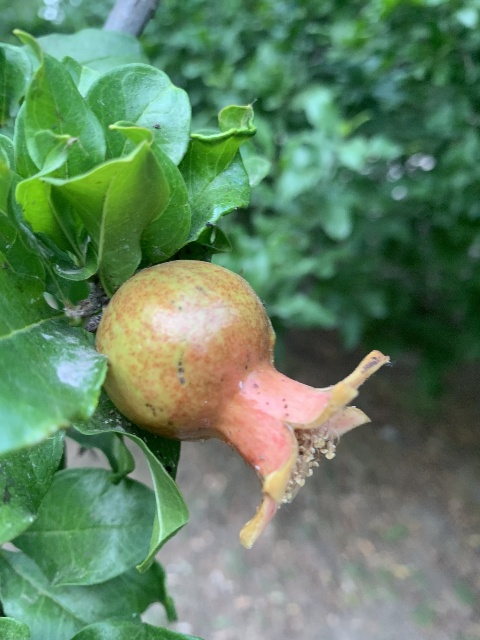early-fruit: (99, 258, 386, 552)
